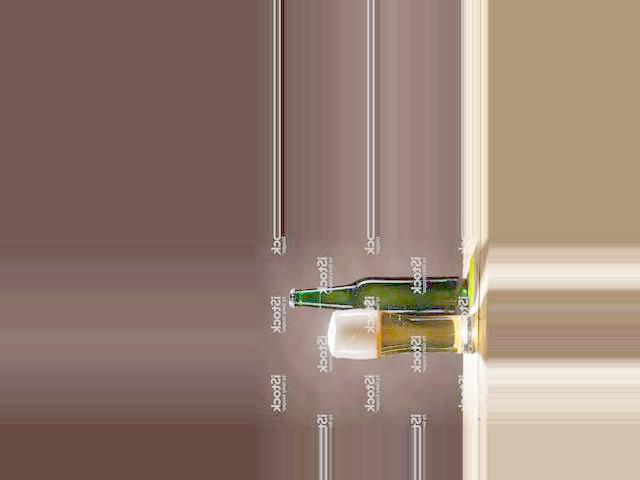beer: (289, 276, 469, 316)
